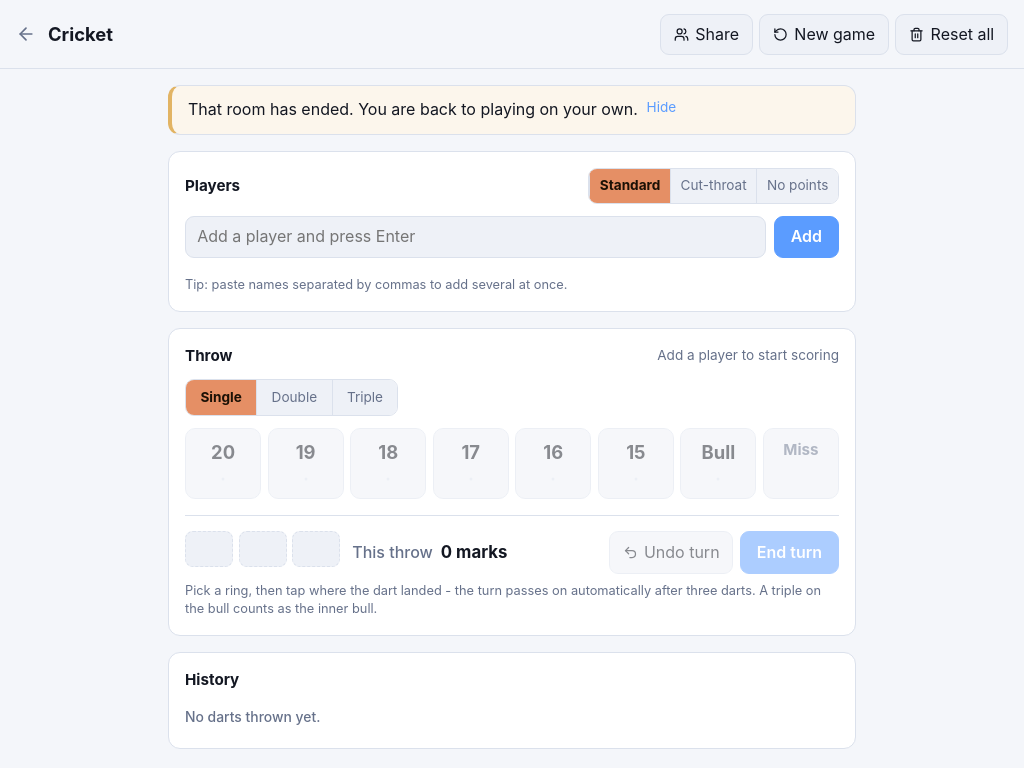
Test: opening a game that remembers a room which has ended › can be put away once it has been read
Expected: the text "That room has ended. You are back to playing on your own." is shown, [188, 98, 638, 122]
Step 1. Click the button "Hide" → x=661, y=108, box [647, 98, 676, 118]
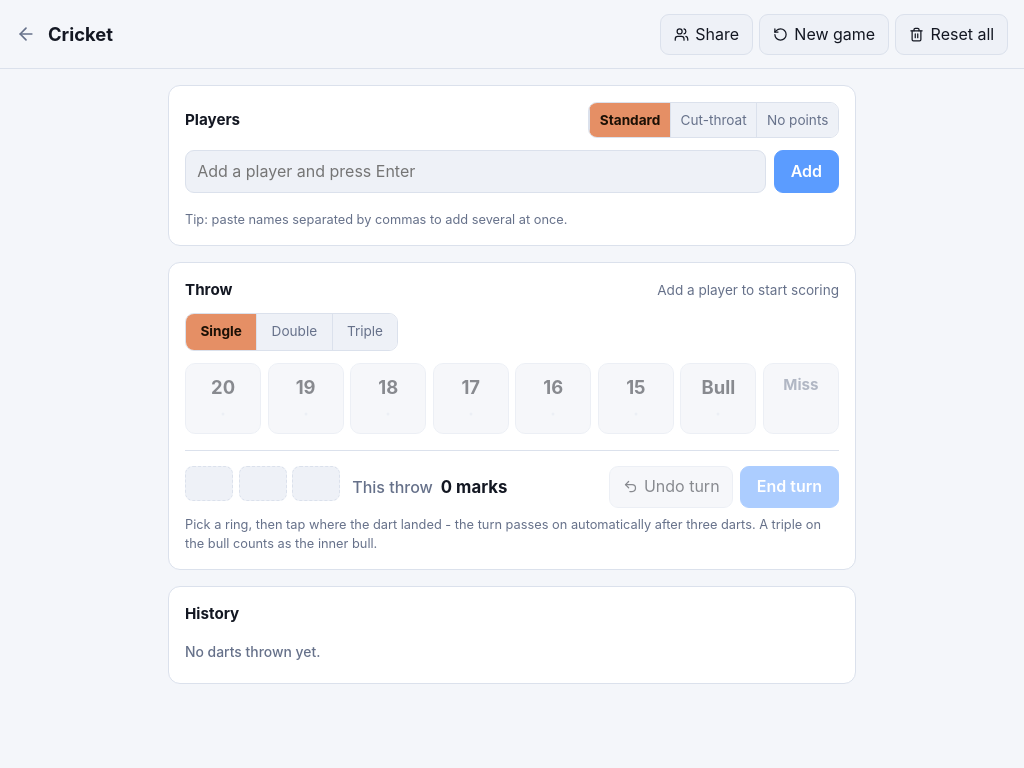
Now the text "That room has ended" is gone
